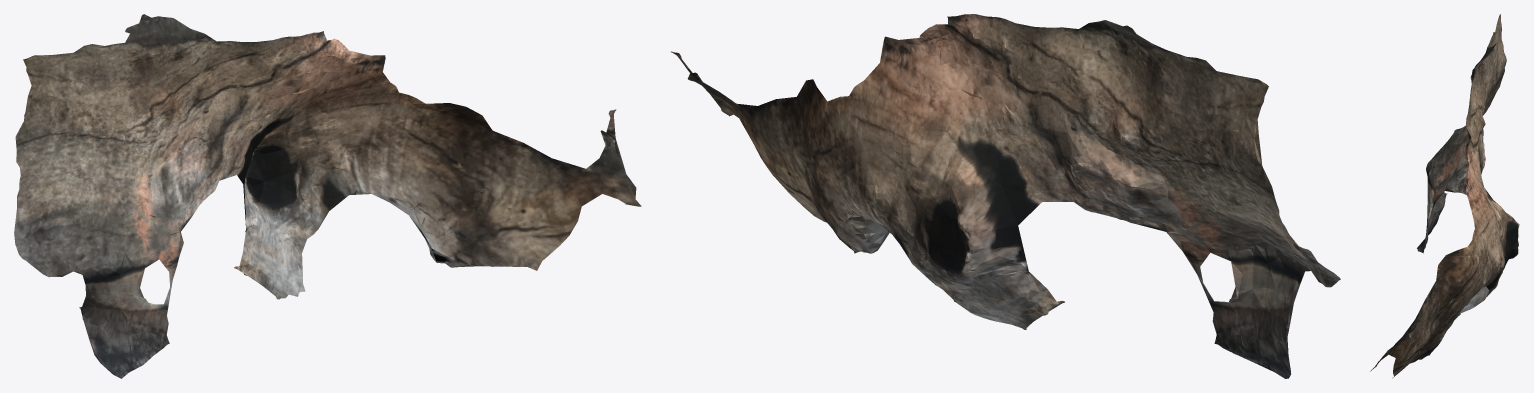
File: texturedMesh.obj
3 views of the same model, side by side, from view 1: azimuth 30°, elevation 25°; view 2: azimuth 150°, elevation 25°; view 3: azimuth 270°, elevation 25° (orthographic). The views are drawn at different scales.
Visible parts, largest first — view 1: TexturedMesh; view 2: TexturedMesh; view 3: TexturedMesh.
Part boxes in pixels (x1=…): TexturedMesh: x1=14, y1=14, x2=641, y2=378; TexturedMesh: x1=671, y1=14, x2=1340, y2=378; TexturedMesh: x1=1370, y1=14, x2=1519, y2=378.
Size of the model in its own units: 2.56 by 1.32 by 0.77.
Materials: 1 (1 with a texture image).
